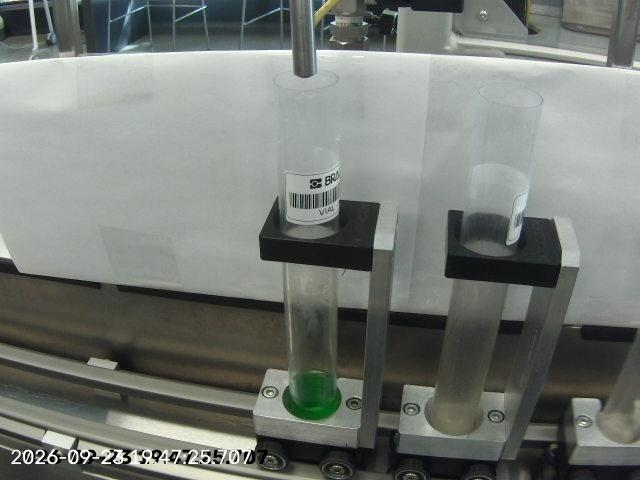vial: (418, 57, 551, 448), (257, 58, 357, 425)
